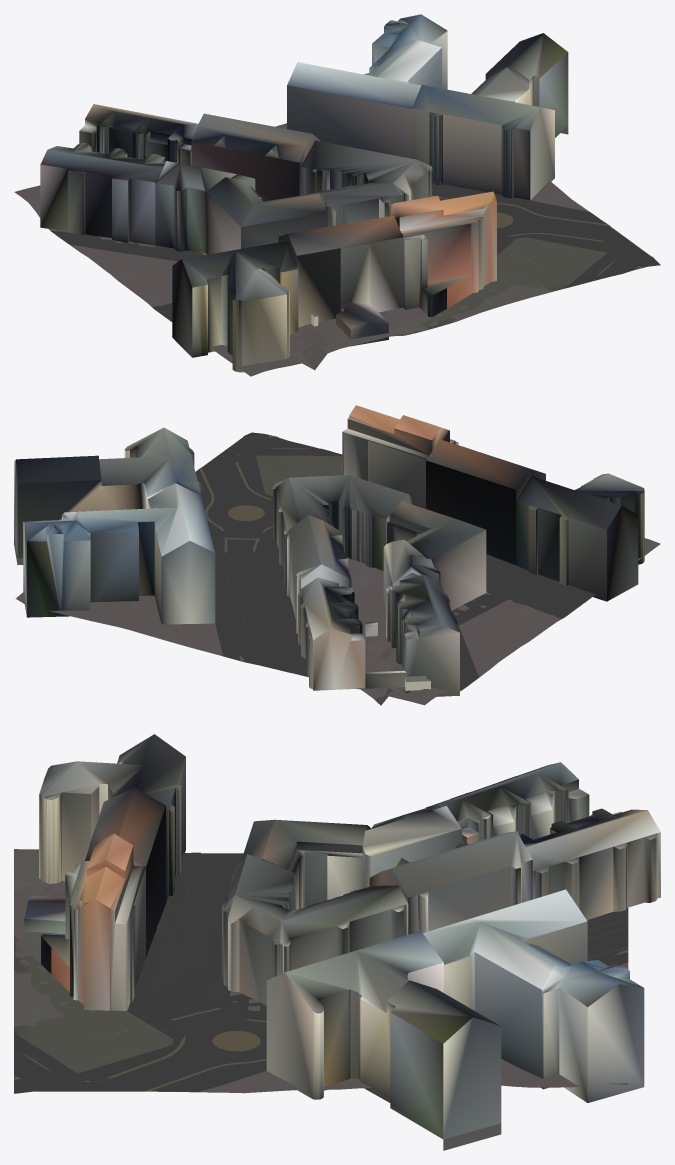
3 renders of one model, top to bottom at view 1: azimuth 30°, elevation 25°; view 2: azimuth 150°, elevation 25°; view 3: azimuth 270°, elevation 25°, orthographic. The views are drawn at different scales.
Visible parts, largest first — view 1: append:c_m12_m01, c_m12_m01; view 2: append:c_m12_m01, c_m12_m01; view 3: append:c_m12_m01, c_m12_m01.
Boxes of the visible parts, bbox=[...] form: append:c_m12_m01: bbox=[14, 14, 660, 376]; c_m12_m01: bbox=[412, 33, 568, 200]; append:c_m12_m01: bbox=[15, 405, 660, 705]; c_m12_m01: bbox=[14, 427, 202, 564]; append:c_m12_m01: bbox=[14, 734, 660, 1102]; c_m12_m01: bbox=[266, 931, 501, 1150].
Bounding box in the file's own units: 156 × 38.8 × 135.
